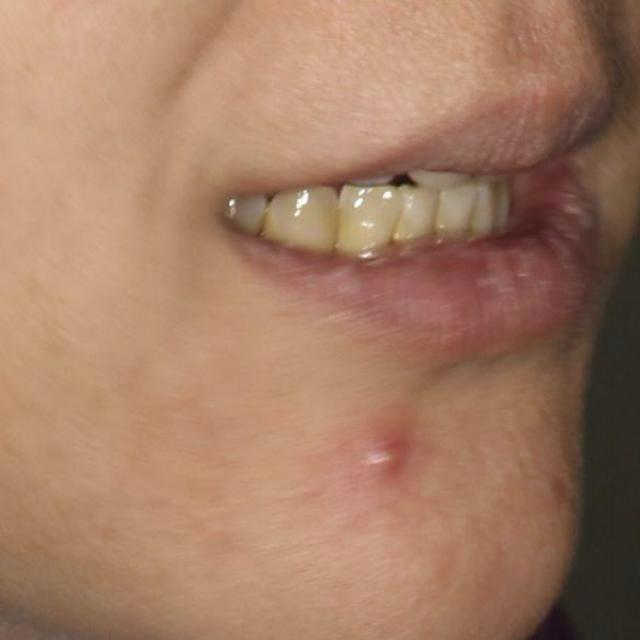Pimples: (356, 417, 418, 492)
